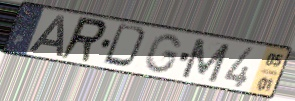4: (221, 45, 255, 89)
A: (25, 13, 66, 58)
D: (101, 22, 151, 71)
G: (142, 32, 184, 75)
M: (178, 37, 233, 85)
R: (57, 14, 109, 65)
